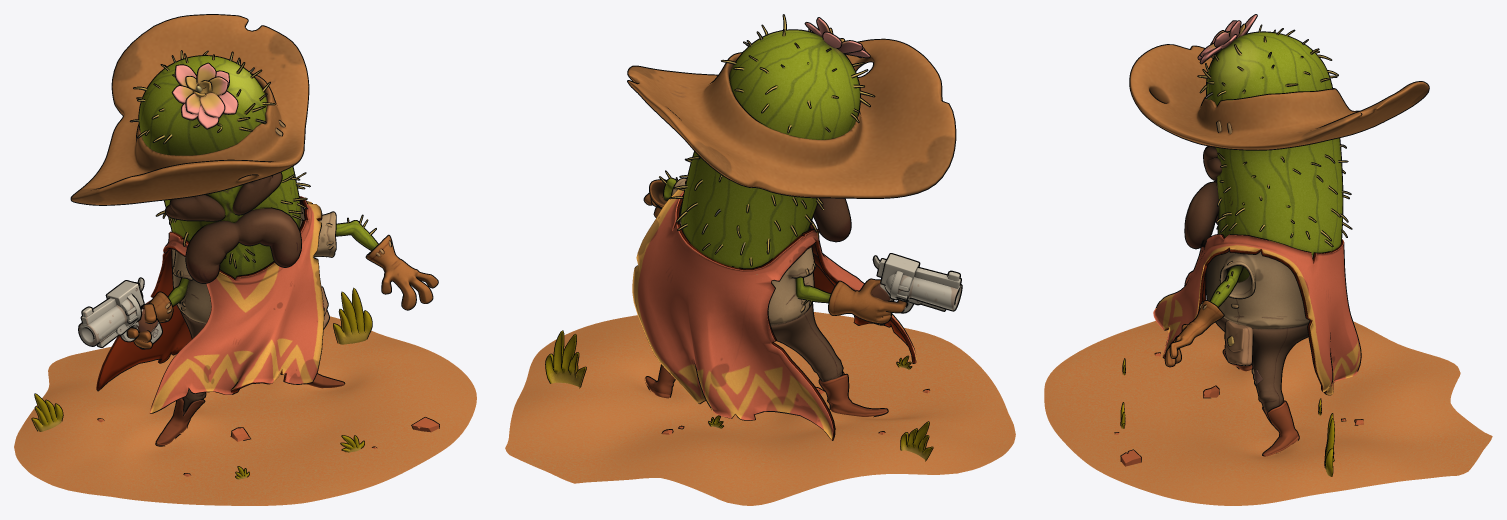
The picture shows the model from 3 angles, left to right: view 1: azimuth 30°, elevation 25°; view 2: azimuth 150°, elevation 25°; view 3: azimuth 270°, elevation 25°; orthographic projection. The views are drawn at different scales.
Parts seen in each view (by area): view 1: Cactus_Sheriff_Geo_0, Plane_2, Cactus_Sheriff_Geo.001_4, Gun_1, Cube.004_3, Rocks_5; view 2: Cactus_Sheriff_Geo_0, Plane_2, Cactus_Sheriff_Geo.001_4, Gun_1, Cube.004_3; view 3: Plane_2, Cactus_Sheriff_Geo_0, Cactus_Sheriff_Geo.001_4, Cube.004_3, Rocks_5.
Boxes of the visible parts, x1,y1,x2,y2 form: Cactus_Sheriff_Geo_0: (70, 14, 438, 446); Plane_2: (14, 316, 476, 505); Cactus_Sheriff_Geo.001_4: (96, 196, 324, 413); Gun_1: (78, 277, 162, 349); Cube.004_3: (31, 287, 372, 479); Rocks_5: (97, 417, 439, 476); Cactus_Sheriff_Geo_0: (627, 14, 956, 417); Plane_2: (505, 312, 1015, 505); Cactus_Sheriff_Geo.001_4: (632, 180, 916, 440); Gun_1: (871, 253, 962, 325); Cube.004_3: (545, 330, 933, 461); Plane_2: (1044, 321, 1492, 505); Cactus_Sheriff_Geo_0: (1129, 14, 1429, 456); Cactus_Sheriff_Geo.001_4: (1153, 234, 1361, 395); Cube.004_3: (1120, 358, 1334, 476); Rocks_5: (1114, 352, 1363, 466).
Size of the model in its own units: 21.89 by 18.32 by 20.12.
6 materials, 5 textured.
